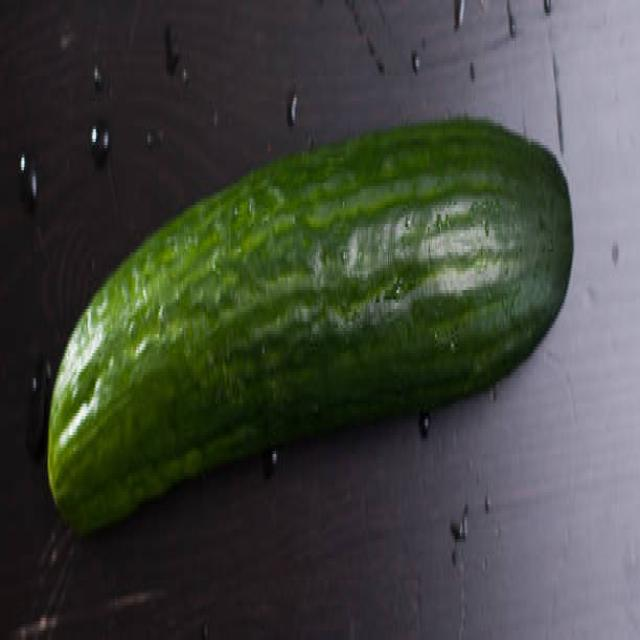cucumber: (47, 121, 573, 526)
